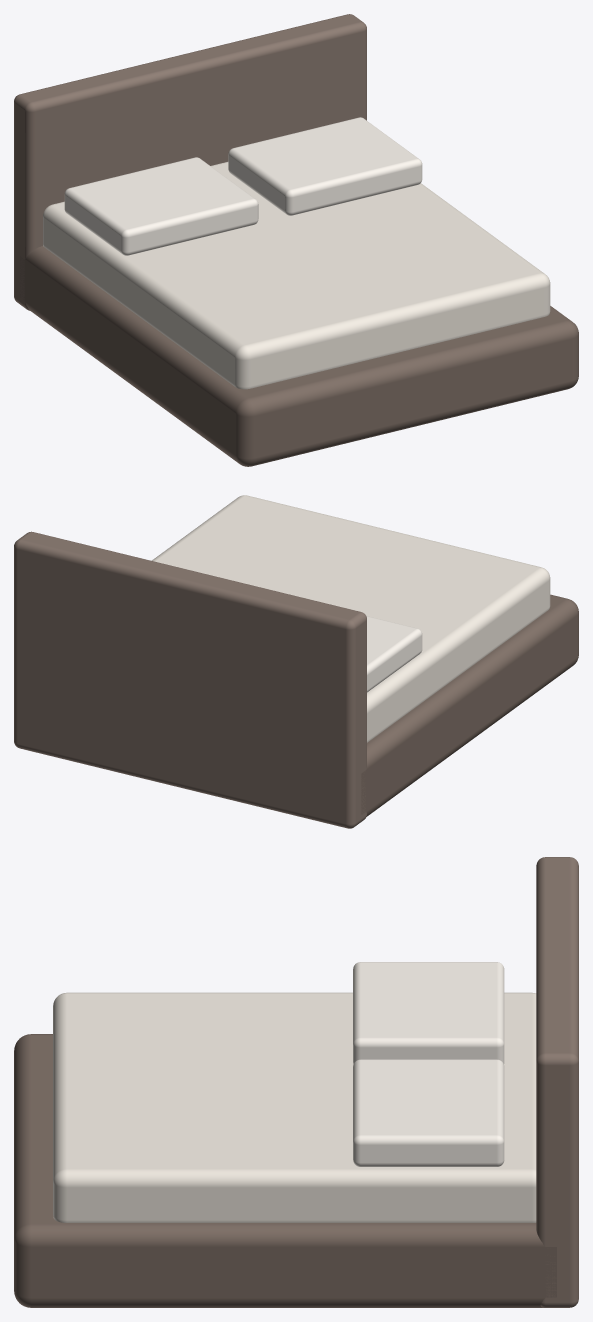
File: justb-sc200.glb
The picture shows the model from 3 angles, top to bottom: view 1: azimuth 30°, elevation 25°; view 2: azimuth 150°, elevation 25°; view 3: azimuth 270°, elevation 25°; orthographic projection. The views are drawn at different scales.
Visible parts, largest first — view 1: mattress, bed-frame, headboard, pillow-left, pillow-right; view 2: headboard, mattress, bed-frame, pillow-left; view 3: mattress, bed-frame, headboard, pillow-right, pillow-left.
Part boxes in pixels (bbox=[...]): mattress: bbox=[43, 162, 550, 389]; bed-frame: bbox=[20, 246, 578, 466]; headboard: bbox=[14, 14, 366, 310]; pillow-left: bbox=[64, 157, 258, 255]; pillow-right: bbox=[228, 117, 422, 215]; headboard: bbox=[14, 531, 366, 828]; mattress: bbox=[152, 495, 550, 742]; bed-frame: bbox=[361, 594, 578, 816]; pillow-left: bbox=[366, 616, 422, 692]; mattress: bbox=[53, 992, 536, 1222]; bed-frame: bbox=[14, 1034, 556, 1307]; headboard: bbox=[536, 857, 578, 1307]; pillow-right: bbox=[353, 1059, 504, 1166]; pillow-left: bbox=[353, 962, 504, 1063].
Bounding box in the file's own units: 1.8 × 1.06 × 2.12.
